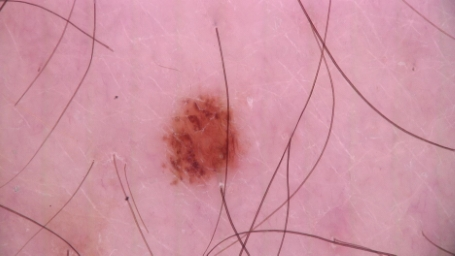melanoma: (166, 97, 238, 186)
